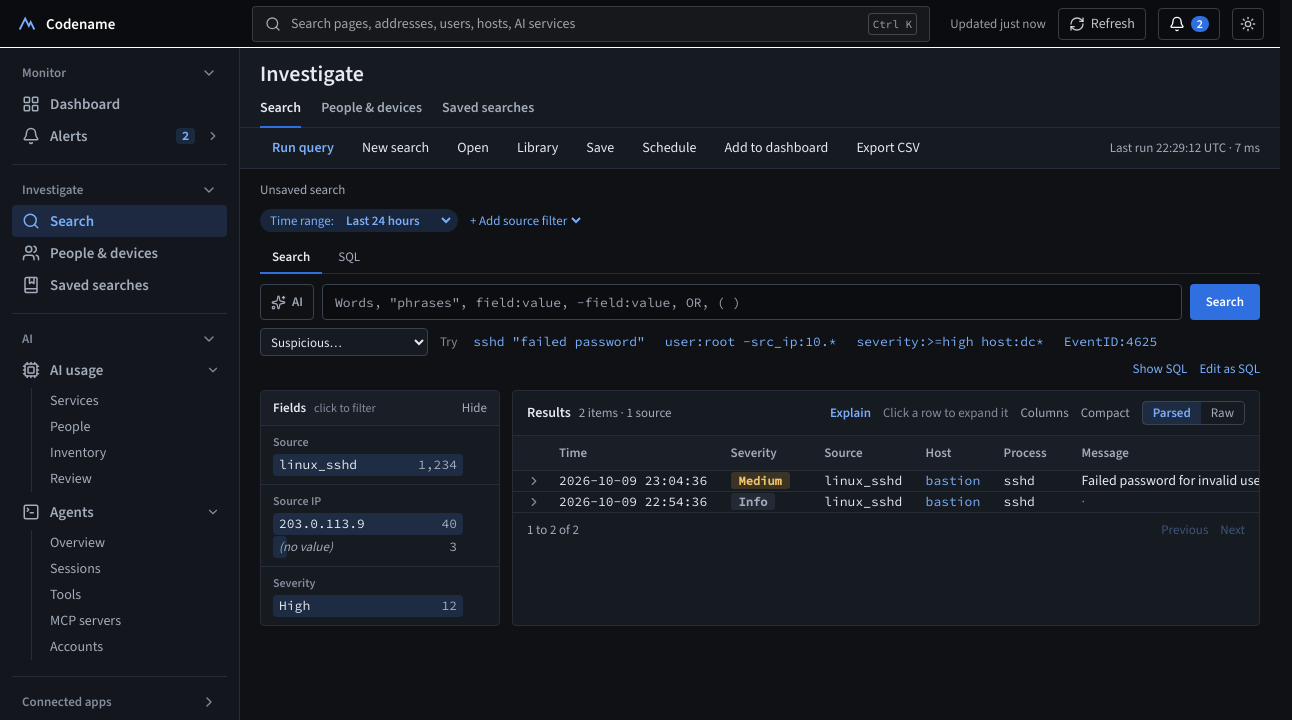
Test: Simple search › opens the search in the SQL tab with the values written in
This screenshot has width=1292, height=720.
Expected: the text "Failed password for invalid user oracle" is shown, [1082,471,1259,490]
Type "it's" into the search field named "Search text".
click(752, 302); type("it's")  # box [322,284,1182,320]
Then press Enter
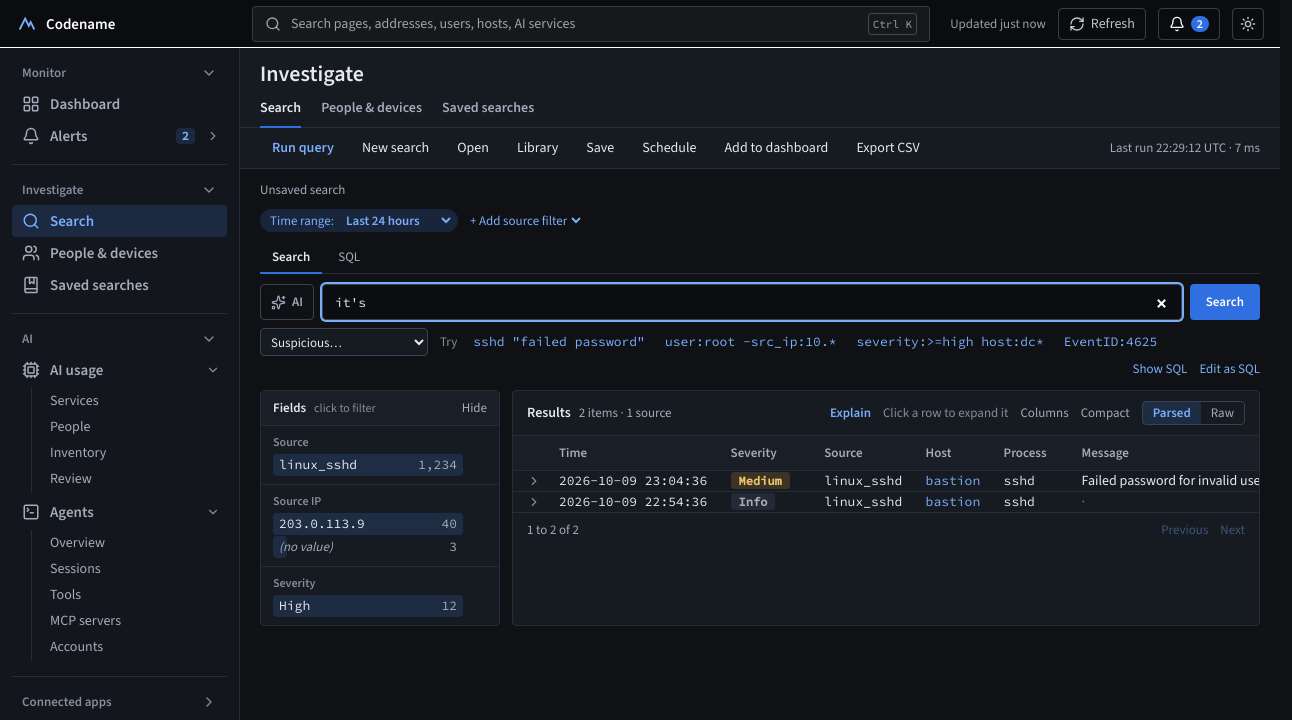
Click the button "Edit as SQL".
click(1230, 369)  # box [1199,360,1260,378]
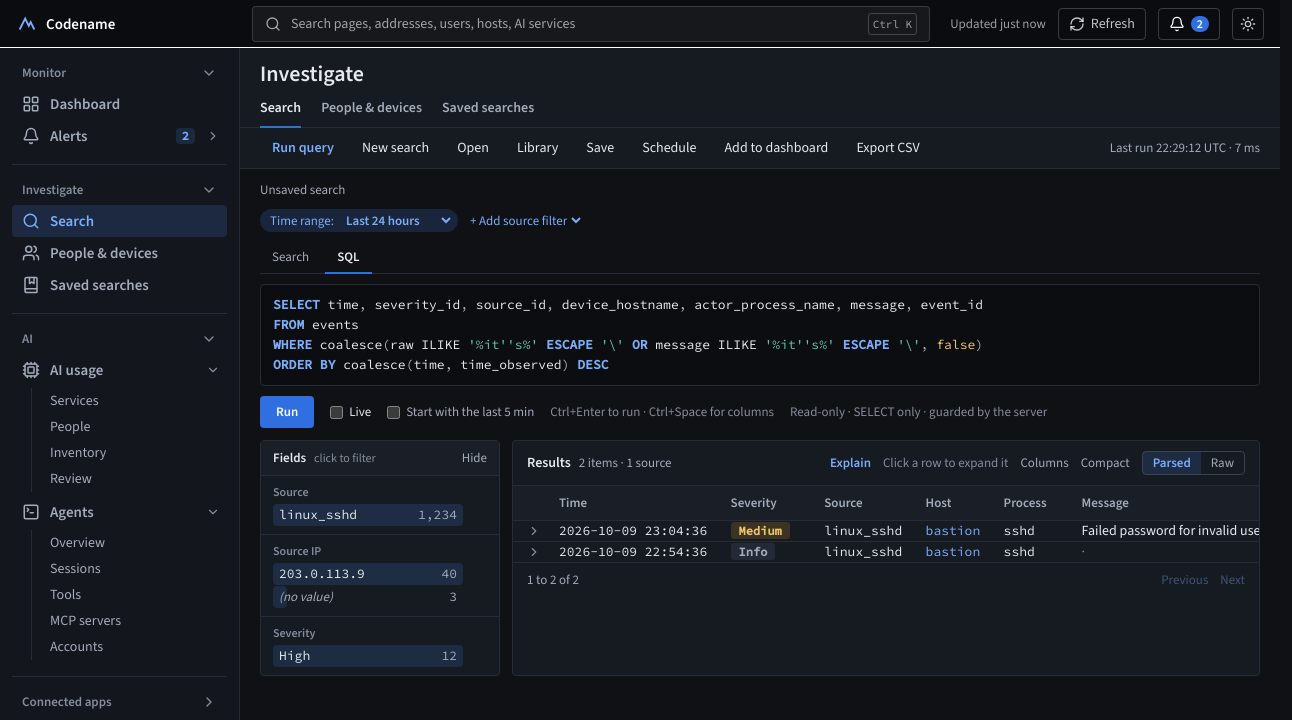
Expected: the tab "SQL" is shown, [325,242,372,274]
Expected: the field named "SQL query" shows "ILIKE '%it''s%'", [273,296,983,373]
